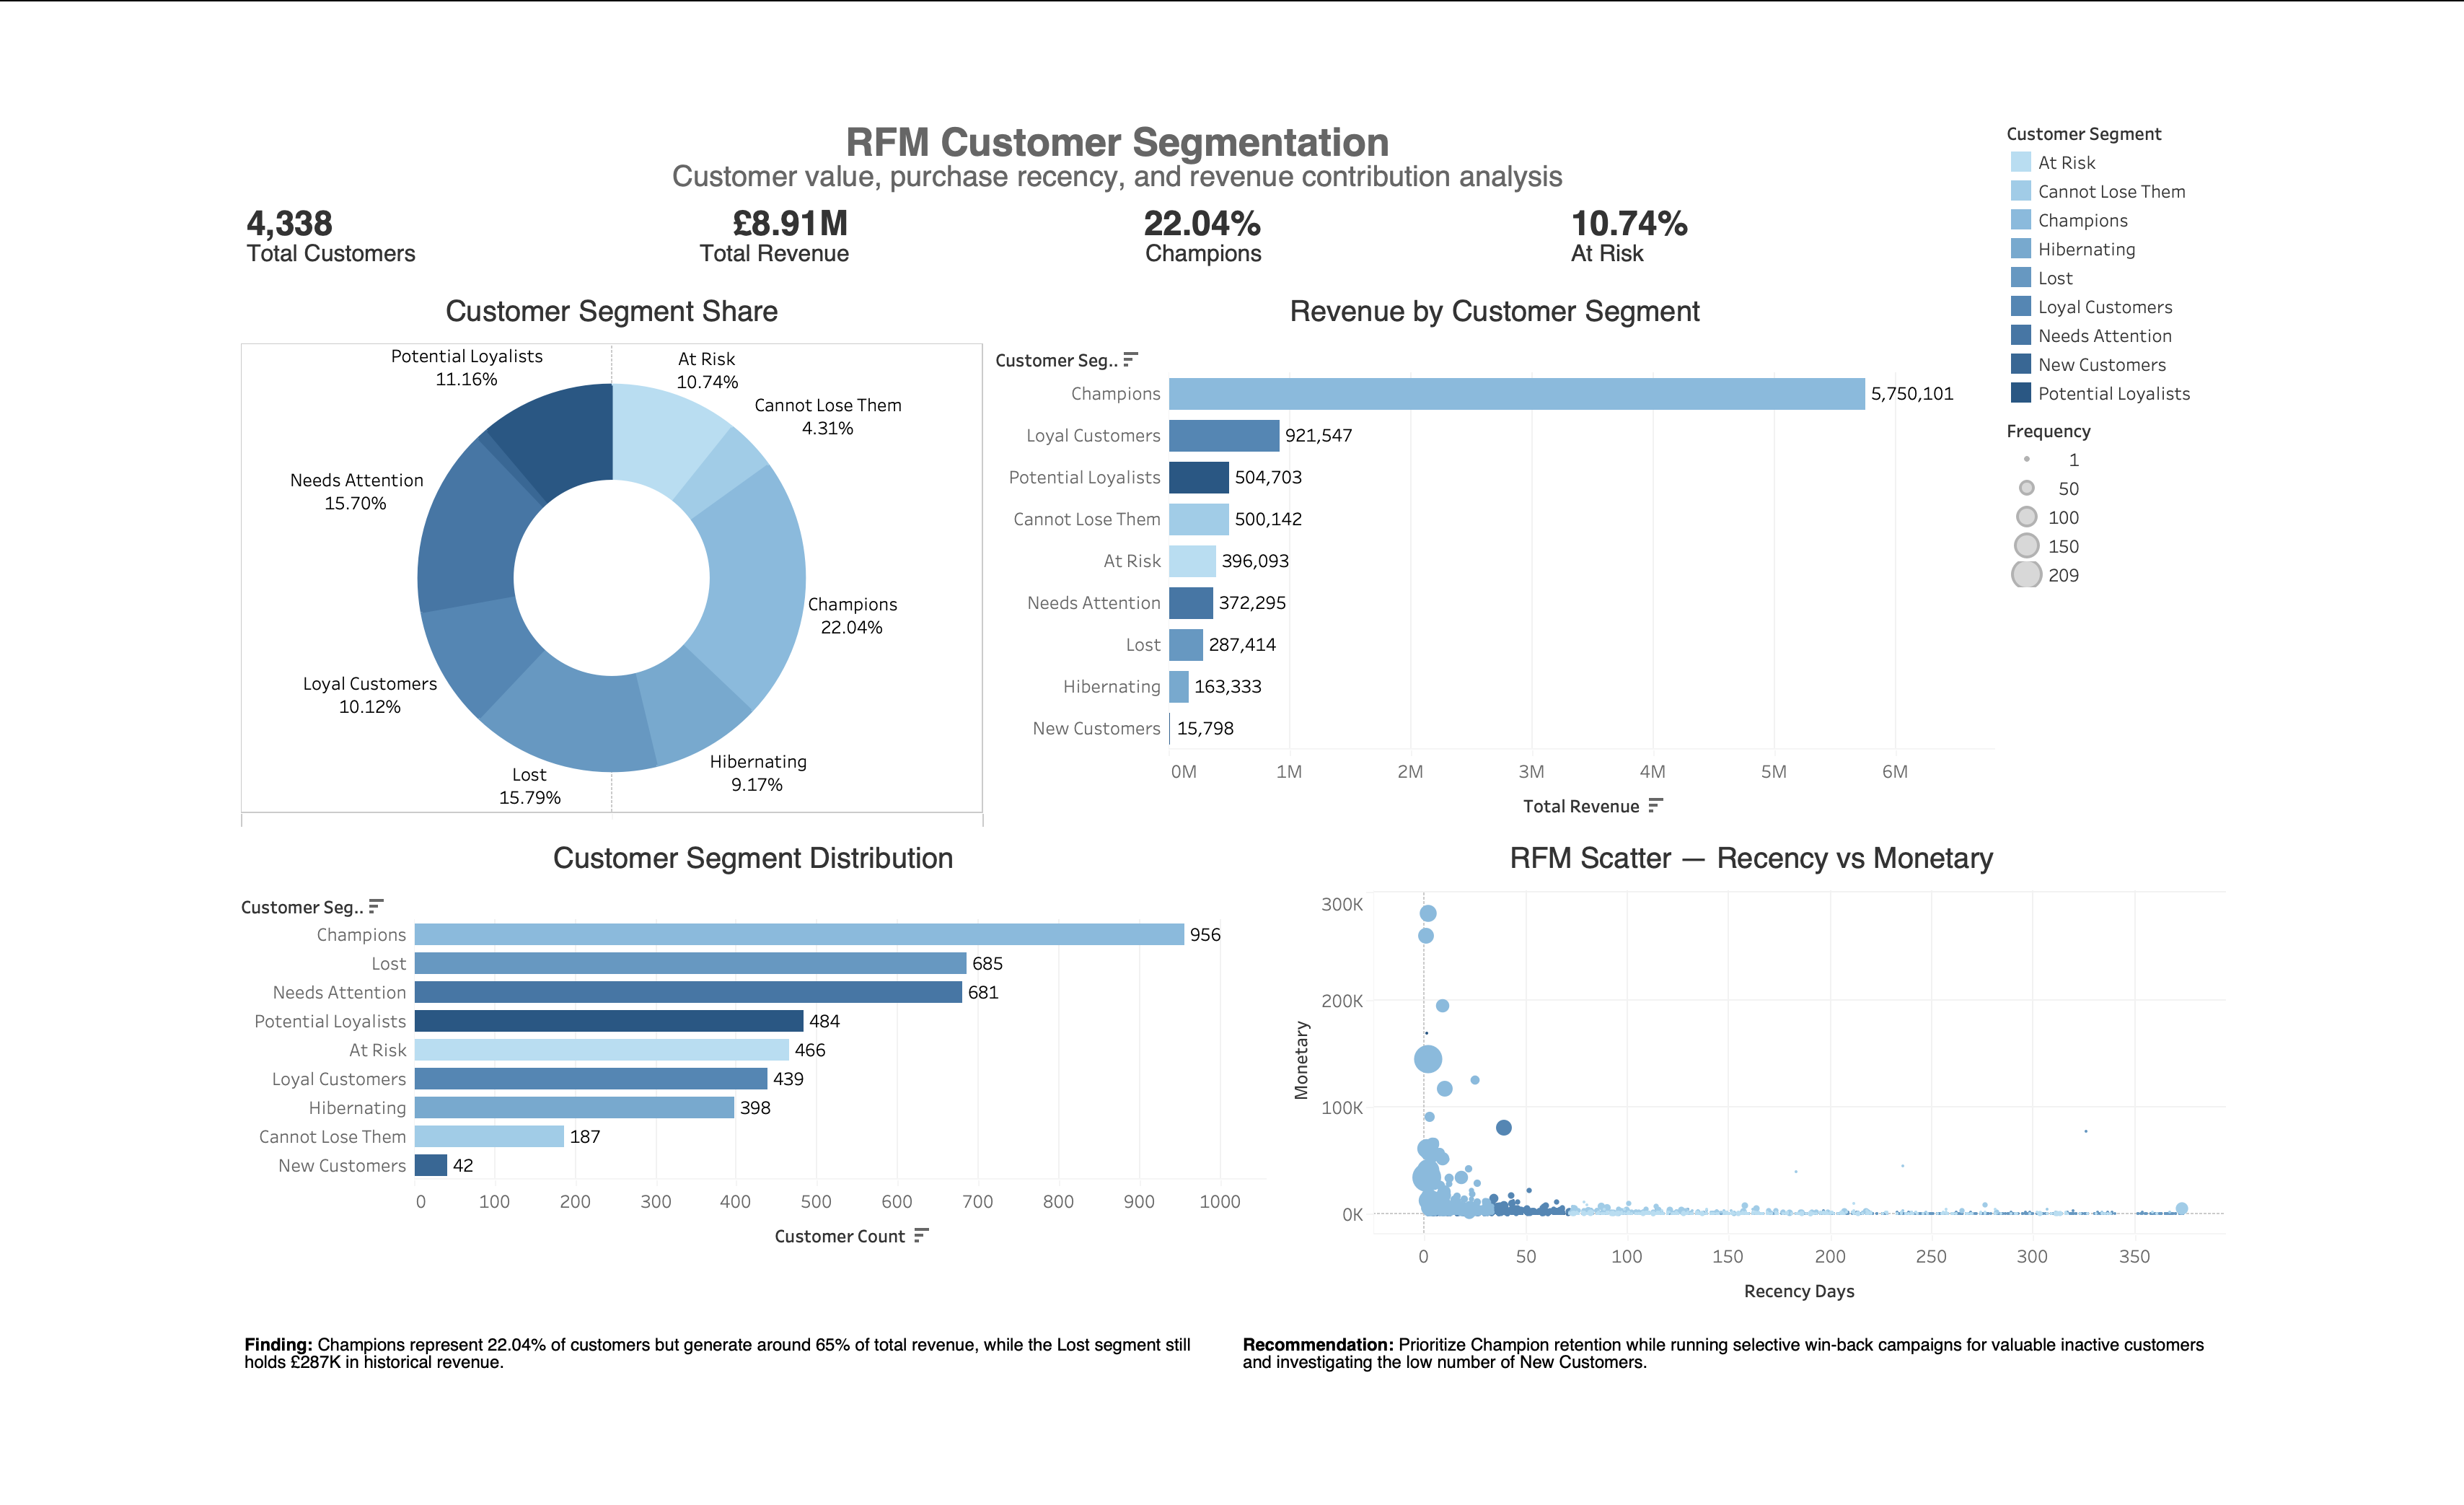

What the dashboard file says about the page in this screenshot:
{"tool":"tableau","page":{"name":"Dashboard 1 - RFM Customer Segmentation","canvas":[1400,900],"ordinal":0},"visuals":[{"type":"text","box":[8,8,1224,61]},{"type":"legend","title":"D1 Segment Donut","param":"[federated.1iw2tf90s2l77819f75as1p2lhjk].[none:customer_segment:nk]","box":[1232,8,160,206]},{"type":"worksheet","title":"D1 KPI Total Customers","mark":"Automatic","box":[8,69,306,58]},{"type":"worksheet","title":"D1 KPI Total Revenue","mark":"Automatic","box":[314,69,306,58]},{"type":"worksheet","title":"D1 KPI Champions %","mark":"Automatic","box":[620,69,306,58]},{"type":"worksheet","title":"D1 KPI At Risk %","mark":"Automatic","box":[926,69,306,58]},{"type":"worksheet","title":"D1 Segment Donut","mark":"Pie","cols":["Calculation_0448748850868225","Calculation_0448748850868225"],"box":[8,127.2,523,378.8]},{"type":"worksheet","title":"D1 Revenue by Segment","mark":"Automatic","rows":["customer_segment"],"cols":["total_revenue"],"box":[531,127.2,701,378.8]},{"type":"legend","title":"D1 RFM Scatter","param":"[federated.0sw8rpi0a5gic910x3kjq1k3yukz].[sum:frequency:qk]","box":[1232,214,160,156]},{"type":"worksheet","title":"D1 Segment Distribution","mark":"Automatic","rows":["customer_segment"],"cols":["customer_count"],"box":[8,506,719,336]},{"type":"worksheet","title":"D1 RFM Scatter","mark":"Circle","rows":["monetary"],"cols":["recency_days"],"box":[727,506,665,336]},{"type":"text","box":[8,842,692,50]},{"type":"text","box":[700,842,692,50]}]}

Visuals, with their boxes on the page's 1400x900 design canvas (x1, y1, x2, y2). These are canvas units, not pixel positions in the 2464x1505 screenshot, which may show the page scaled, cropped or inside an application window:
text: 8:8:1232:69
"D1 Segment Donut" legend: 1232:8:1392:214
"D1 KPI Total Customers" worksheet: 8:69:314:127
"D1 KPI Total Revenue" worksheet: 314:69:620:127
"D1 KPI Champions %" worksheet: 620:69:926:127
"D1 KPI At Risk %" worksheet: 926:69:1232:127
"D1 Segment Donut" worksheet (Pie marks): 8:127:531:506
"D1 Revenue by Segment" worksheet: 531:127:1232:506
"D1 RFM Scatter" legend: 1232:214:1392:370
"D1 Segment Distribution" worksheet: 8:506:727:842
"D1 RFM Scatter" worksheet (Circle marks): 727:506:1392:842
text: 8:842:700:892
text: 700:842:1392:892
